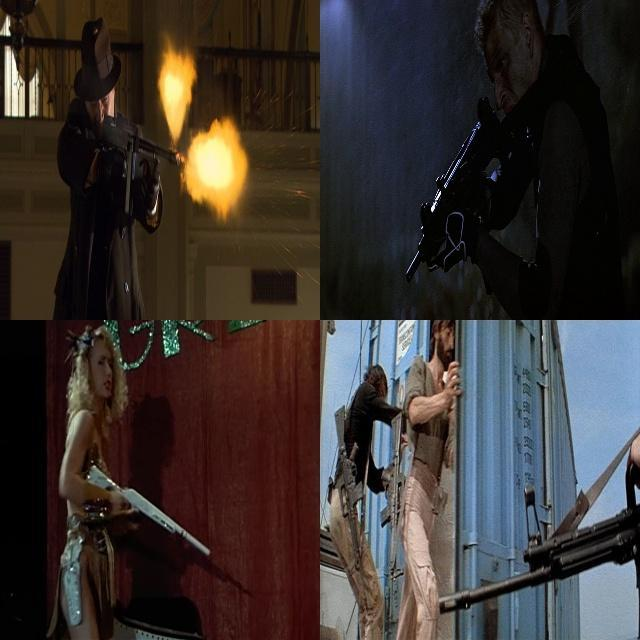gun-knife-thesis - v11 Yolov5 augmented: (420, 479, 635, 615), (403, 90, 519, 300), (80, 96, 193, 224), (78, 453, 211, 560), (324, 394, 370, 567), (380, 393, 410, 630)
